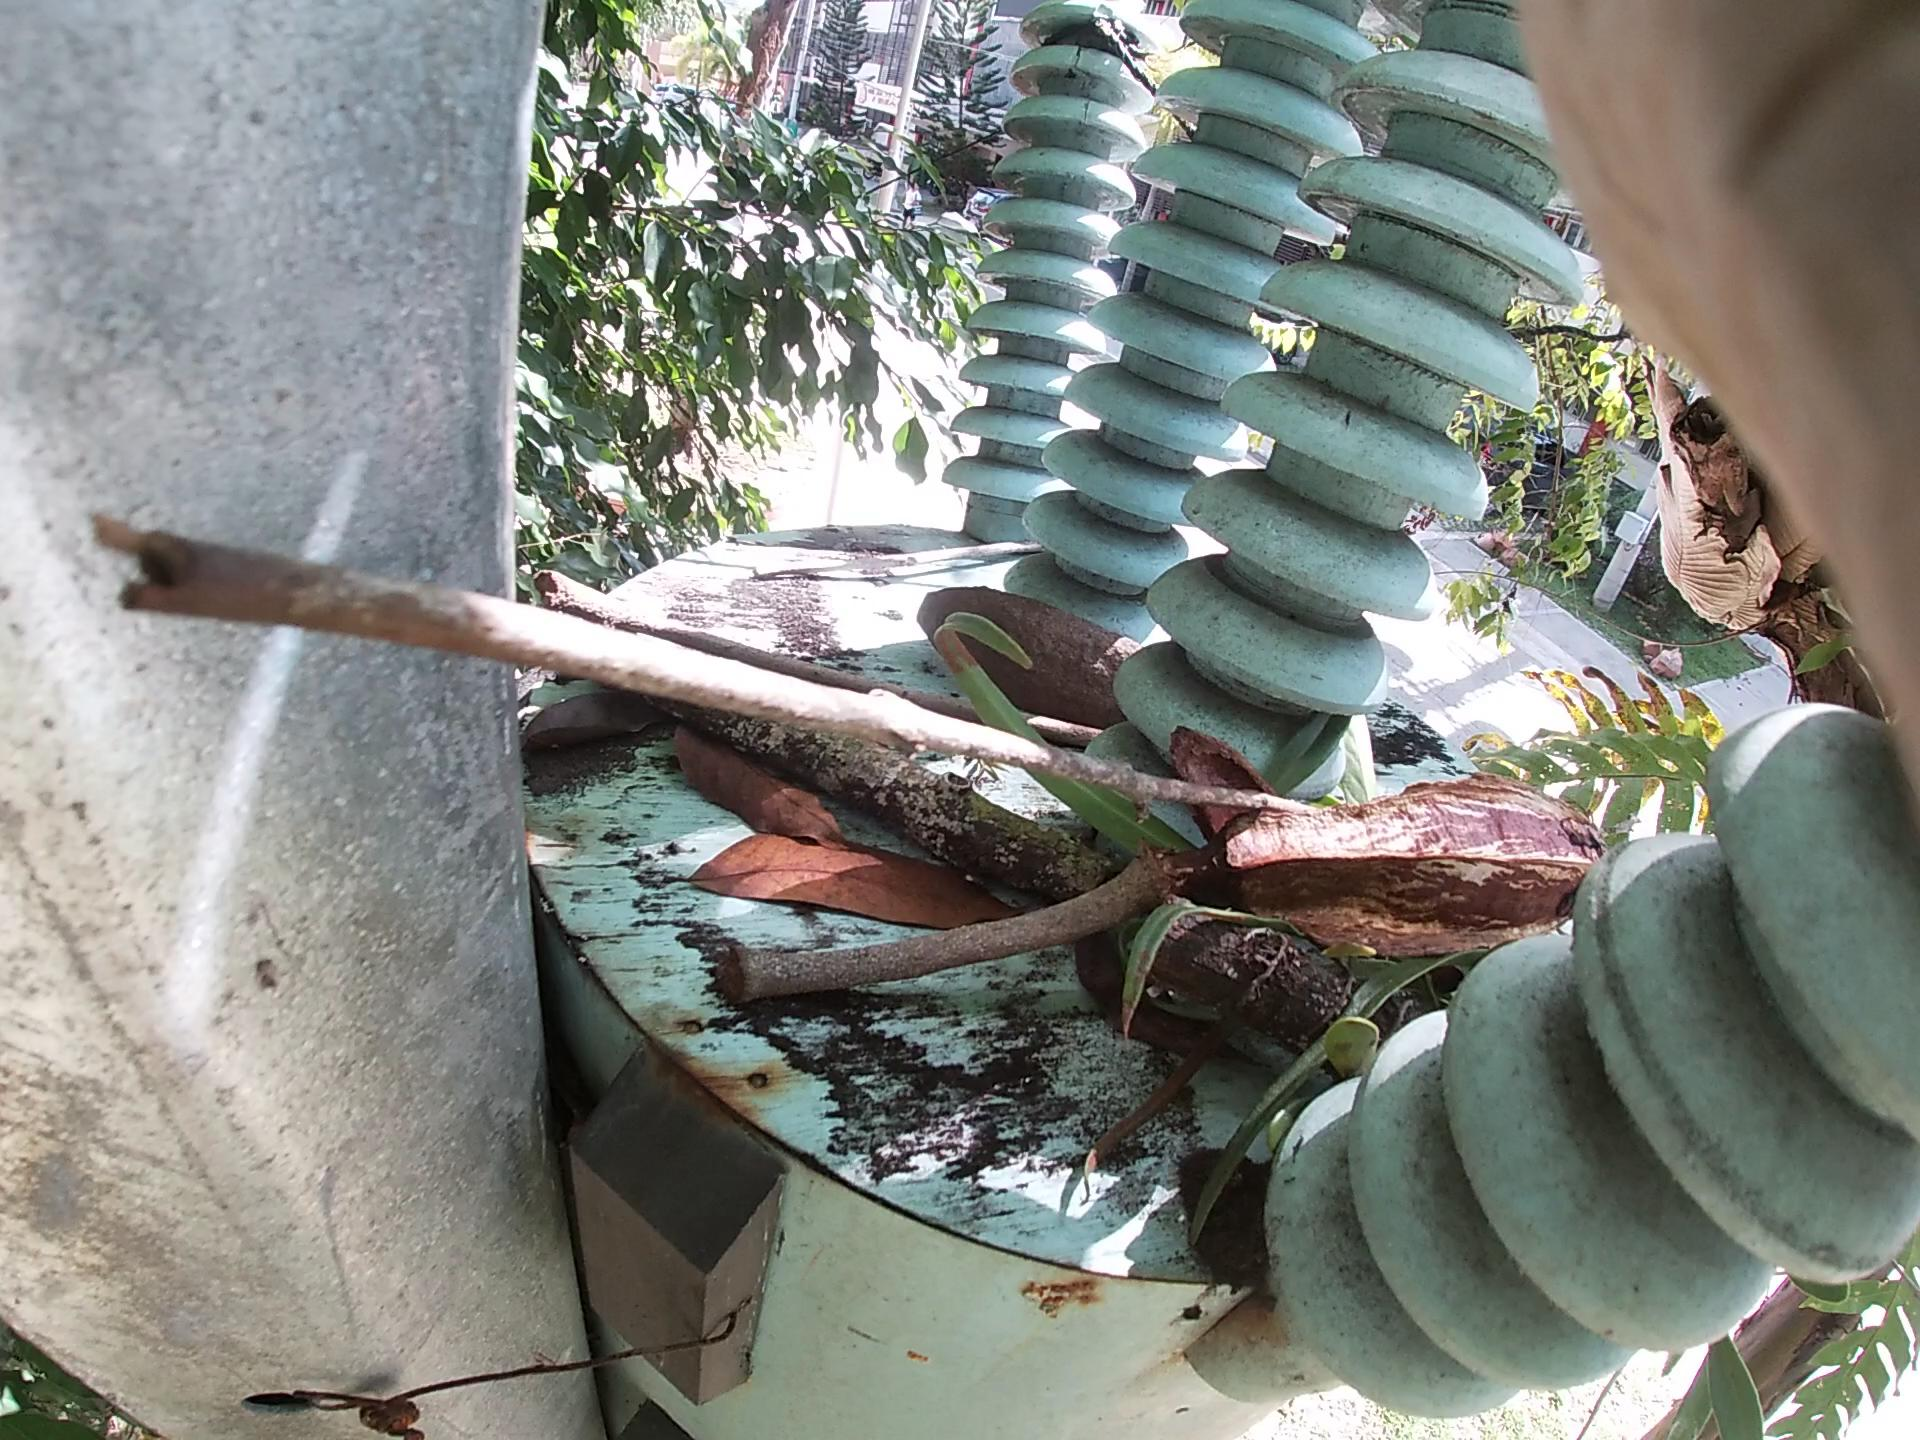branch with leaves: (522, 537, 1407, 1172)
leaf: (593, 617, 971, 951), (470, 659, 683, 829)
mahogany fruit: (1184, 765, 1723, 982), (937, 560, 1217, 735), (1175, 703, 1355, 883)
tree branch: (145, 540, 1355, 820), (537, 546, 1128, 750)
